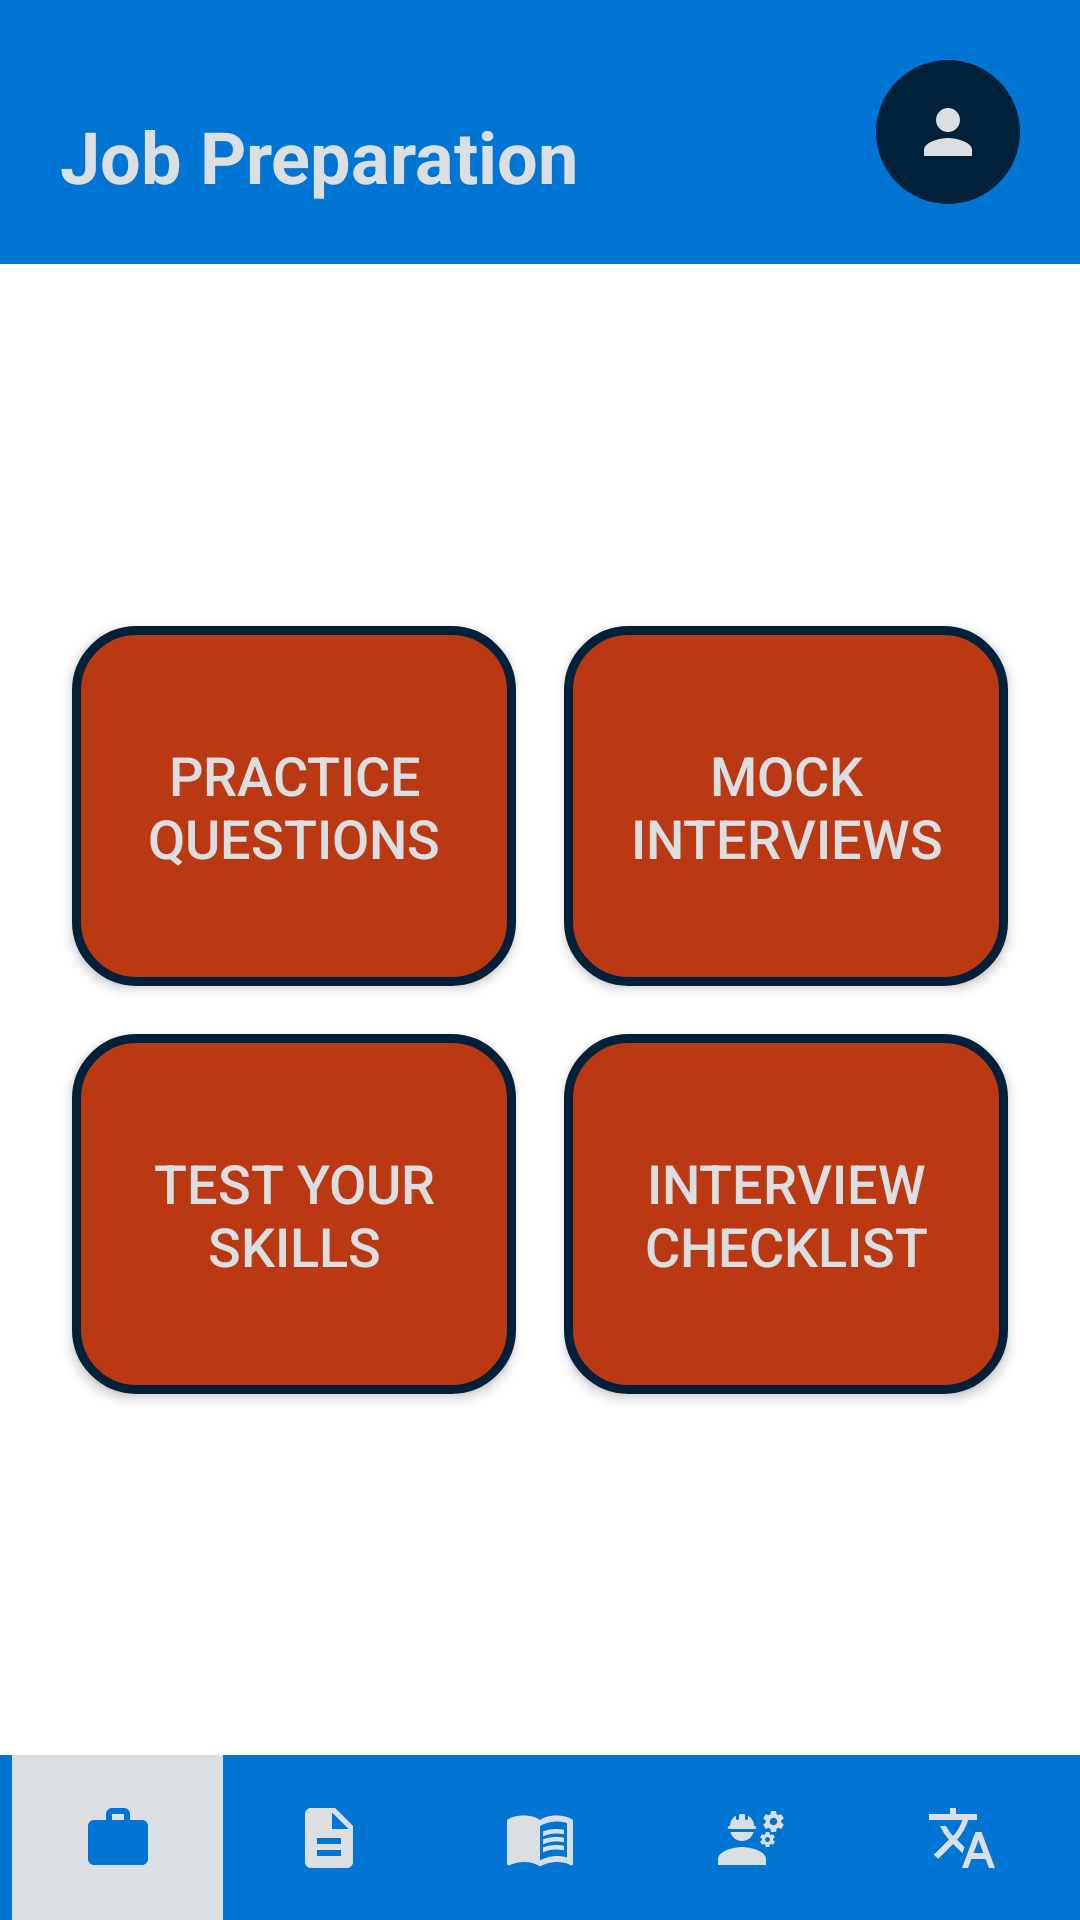

Point at icon controls on the screen. Image size 1080 x 1920, points as (x=x, y=y).
Career Guidelines: (x=540, y=1841)
Job Preparation: (x=117, y=1837)
Language Learning: (x=962, y=1838)
Make CV: (x=329, y=1838)
Profile: (x=948, y=132)
Skill Development: (x=751, y=1838)
